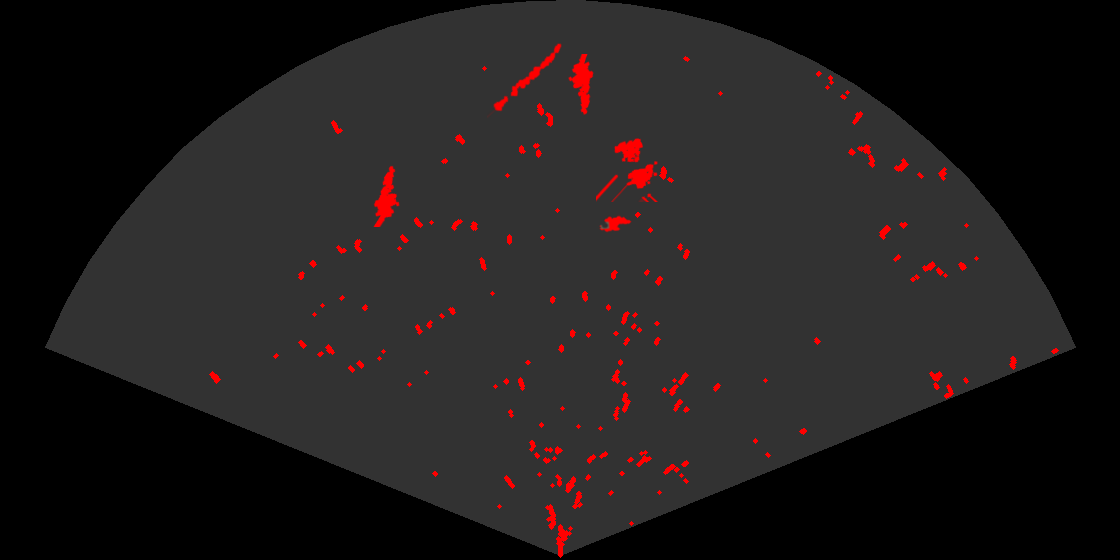AUV: (598, 214, 633, 234)
cage: (596, 137, 660, 202)
chain: (487, 42, 563, 119)
frogman: (372, 164, 401, 227), (567, 54, 595, 117)
